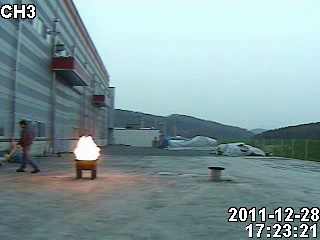fire: (71, 133, 102, 161)
